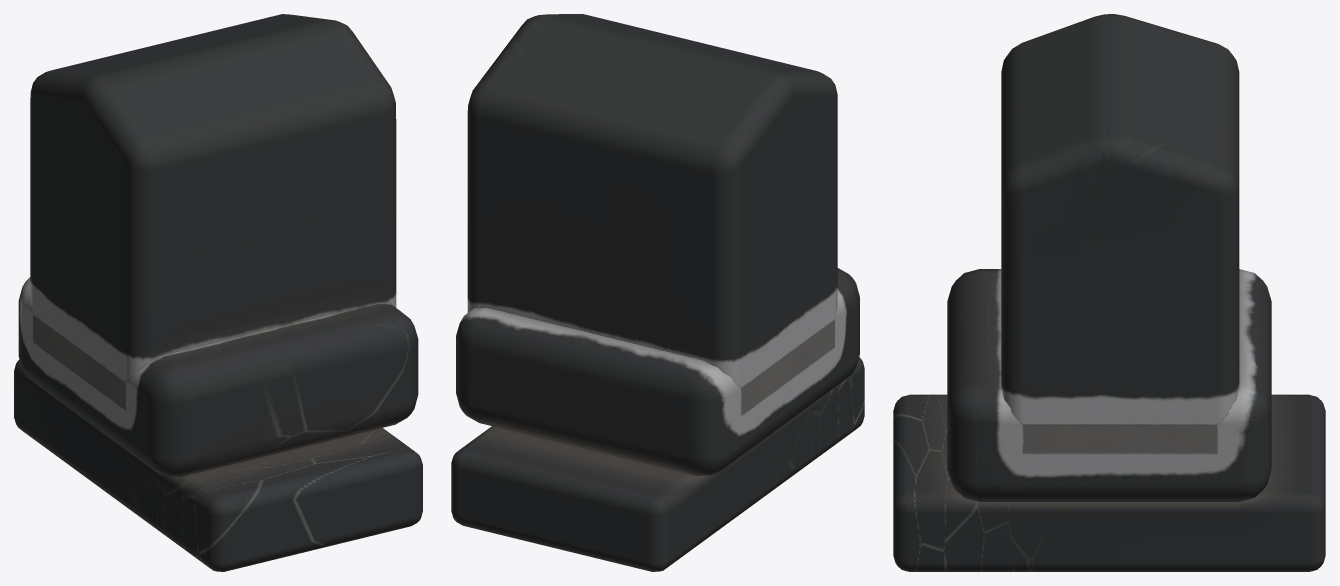
The model's file is reflex.gltf.
3 renders of one model, left to right at view 1: azimuth 30°, elevation 25°; view 2: azimuth 150°, elevation 25°; view 3: azimuth 270°, elevation 25°, orthographic. The views are drawn at different scales.
Visible parts, largest first — view 1: Frame; view 2: Frame; view 3: Frame.
Part boxes in pixels (left/top/right/bottom): Frame: left=14, top=14, right=422, bottom=571; Frame: left=451, top=14, right=864, bottom=571; Frame: left=893, top=14, right=1325, bottom=571.
Size of the model in its own units: 0.03 by 0.0456 by 0.04.
Materials: 3 (1 with a texture image).
